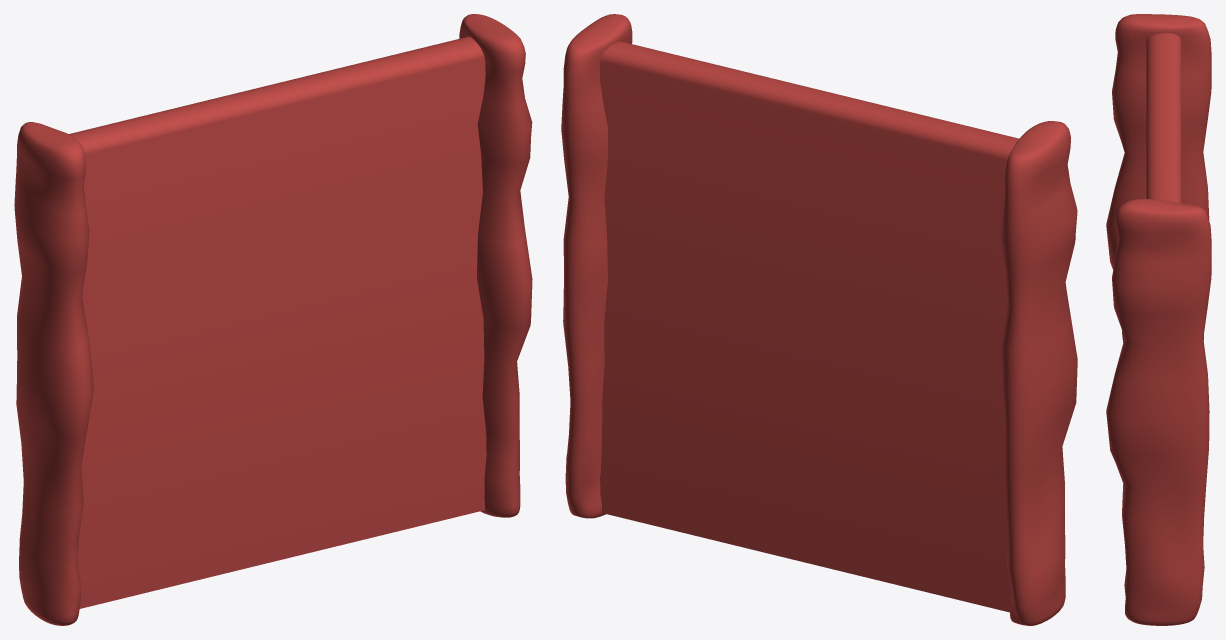
File: Wall_2.fbx
3 renders of one model, left to right at view 1: azimuth 30°, elevation 25°; view 2: azimuth 150°, elevation 25°; view 3: azimuth 270°, elevation 25°, orthographic. The views are drawn at different scales.
Parts seen in each view (by area): view 1: Wall_2; view 2: Wall_2; view 3: Wall_2.
Boxes of the visible parts, x1,y1,x2,y2 form: Wall_2: [14, 14, 532, 625]; Wall_2: [561, 14, 1077, 625]; Wall_2: [1106, 14, 1211, 625].
Size of the model in its own units: 444 by 417 by 95.26.
